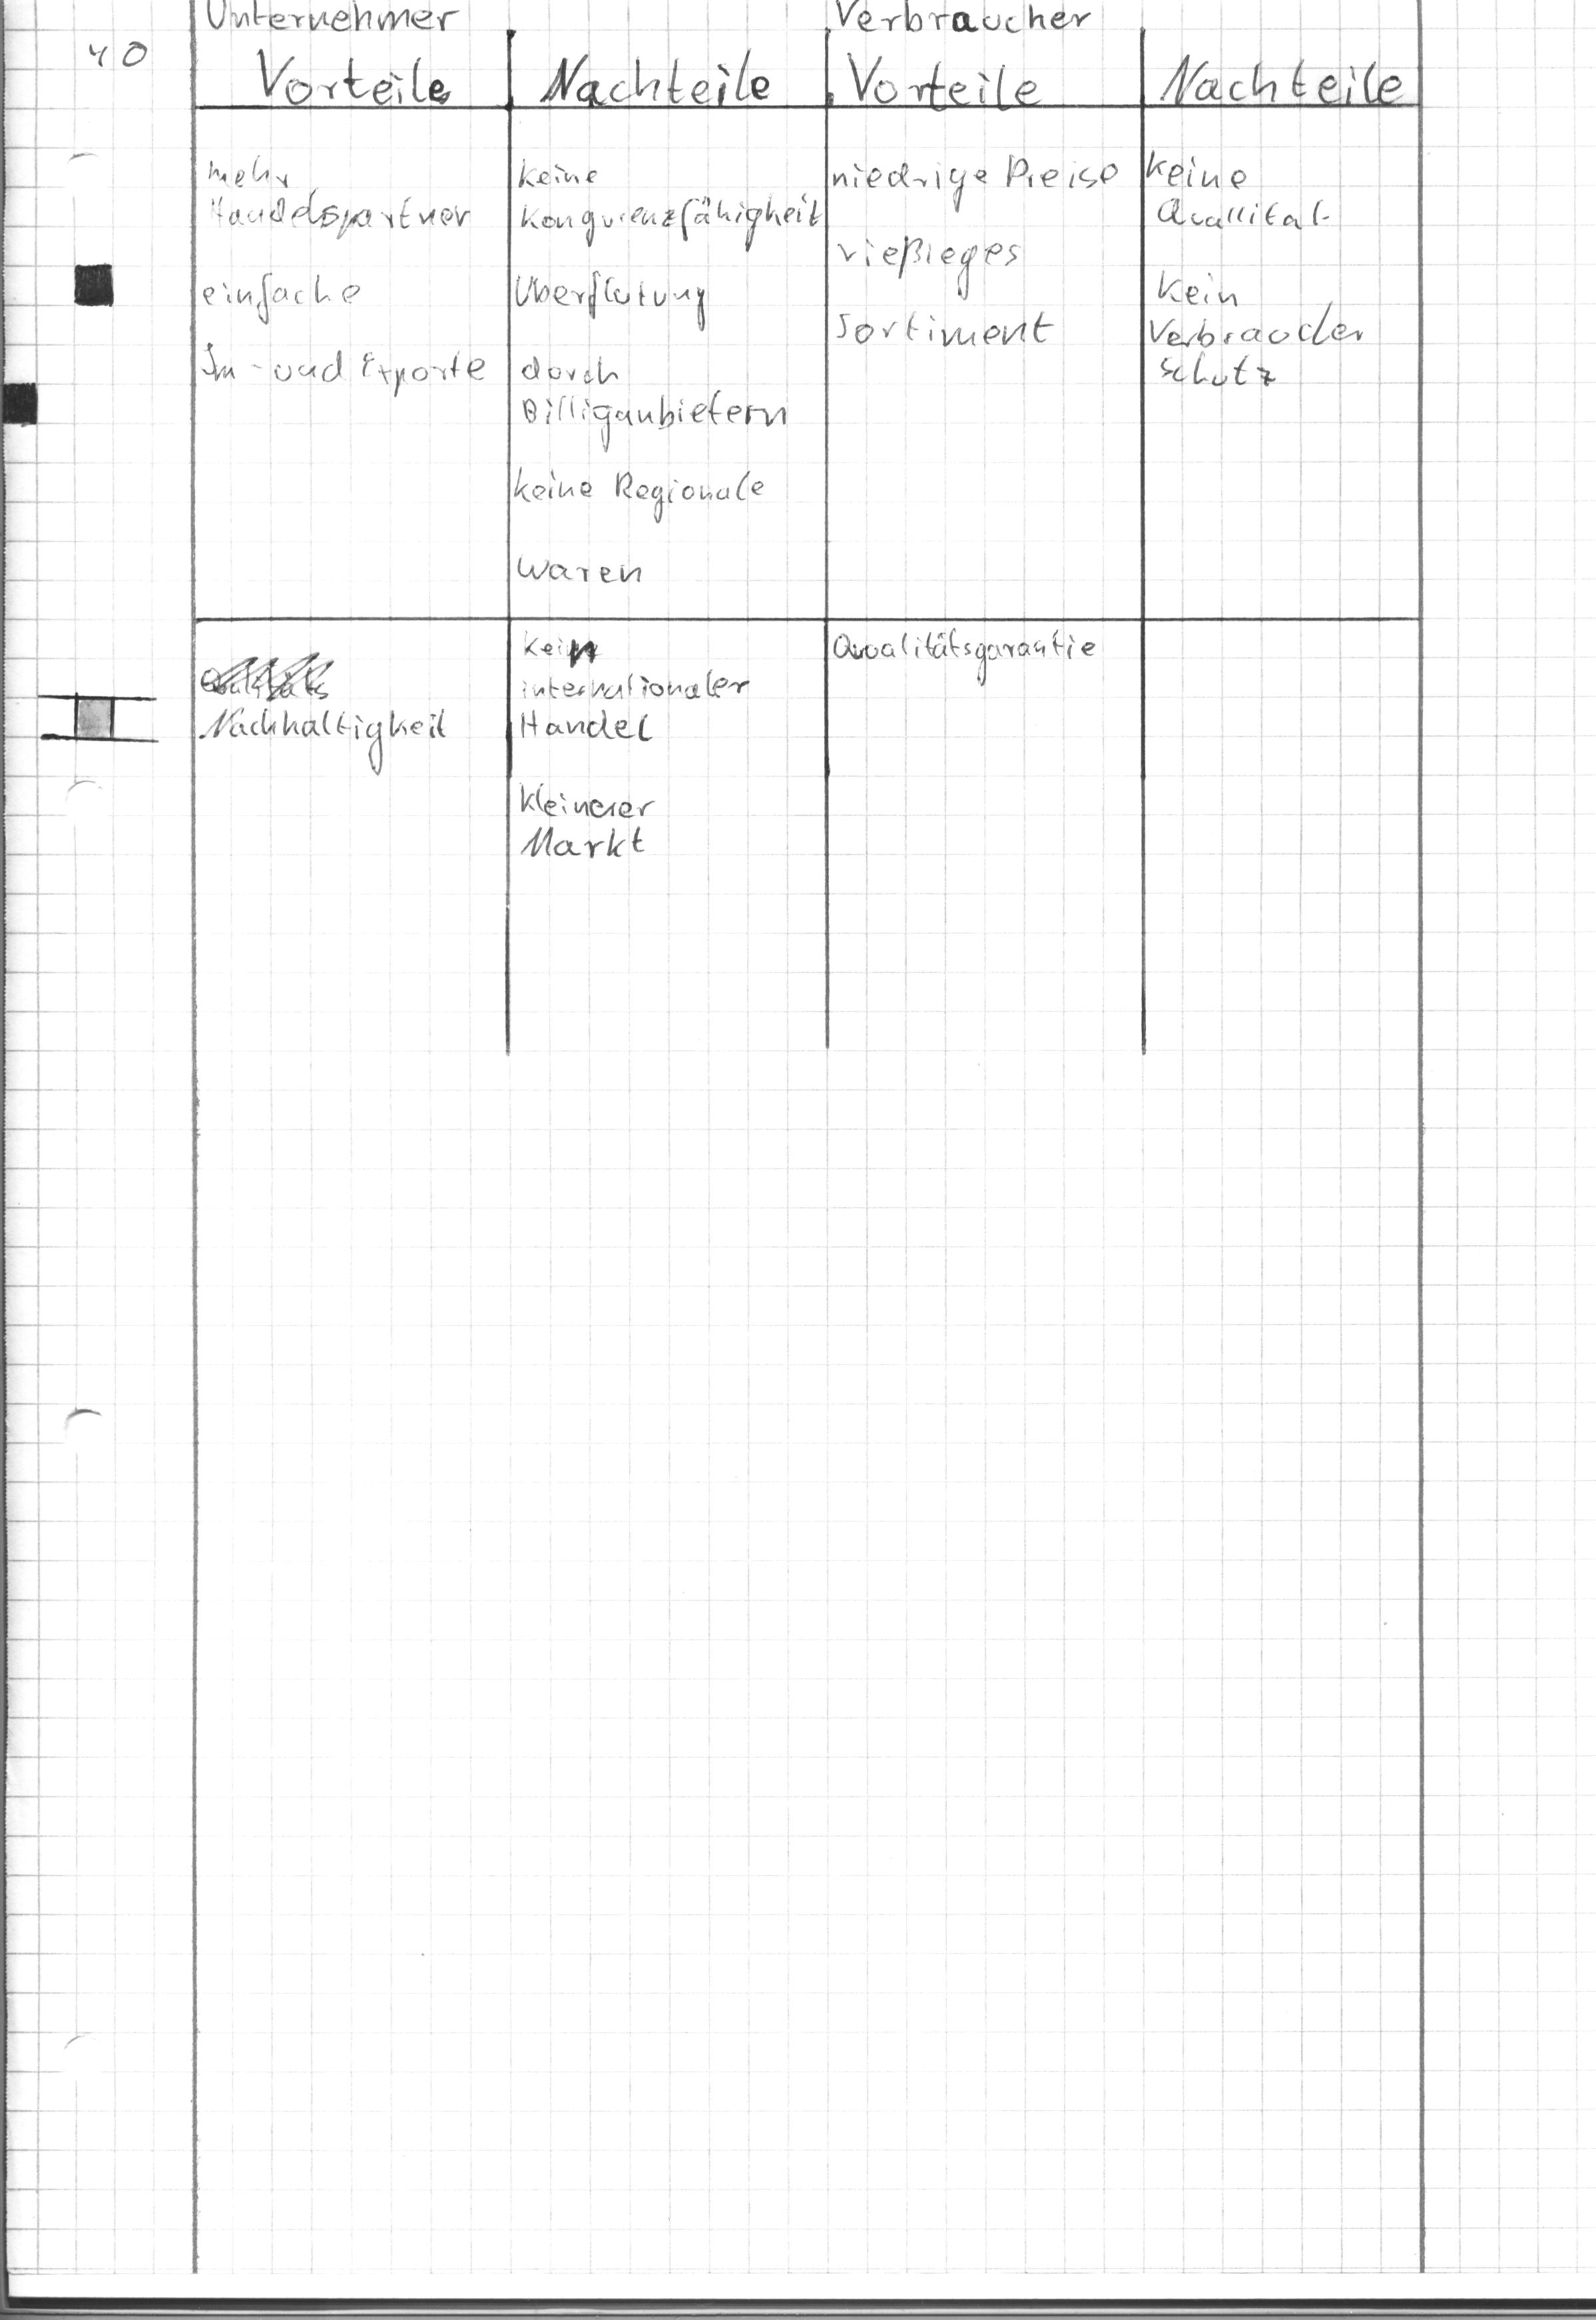word: (244, 37, 1412, 129), (198, 152, 494, 410), (828, 145, 1123, 358), (511, 153, 826, 331), (198, 649, 454, 791), (510, 457, 772, 589), (517, 344, 796, 464), (513, 625, 760, 757), (1147, 268, 1367, 400), (824, 617, 1102, 691), (1141, 145, 1343, 245), (511, 774, 675, 876)
